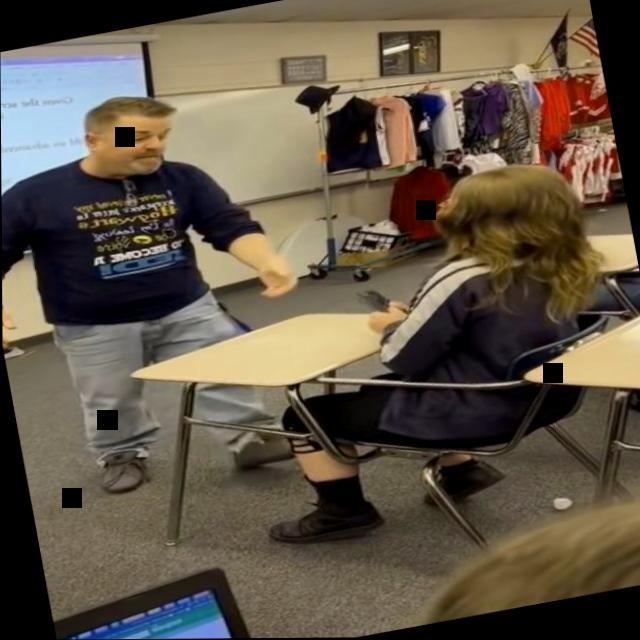NO-Mask: (75, 96, 180, 183)
